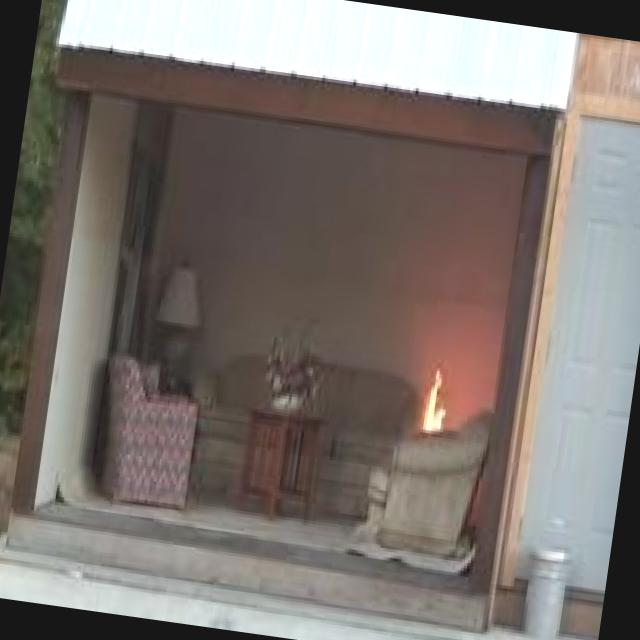fire: (384, 347, 486, 478)
